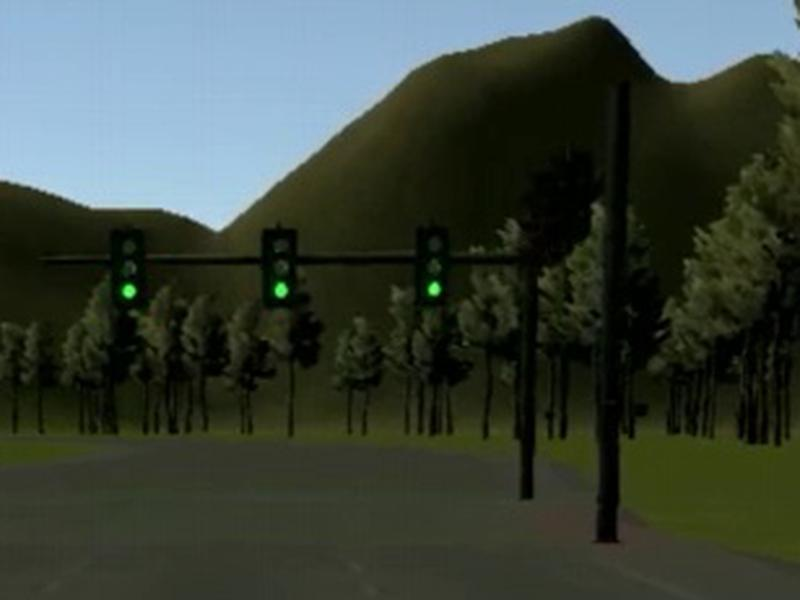Green: (261, 228, 299, 308), (417, 228, 452, 307), (111, 230, 146, 307)
